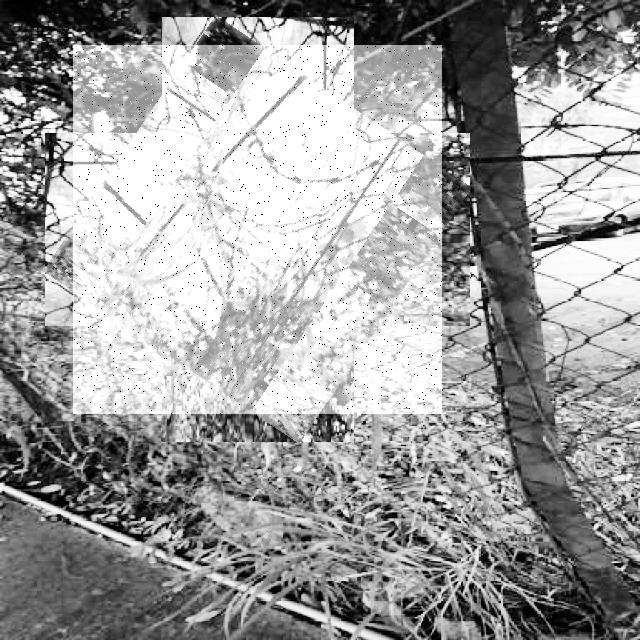anomaly-fence: (73, 45, 442, 414)
